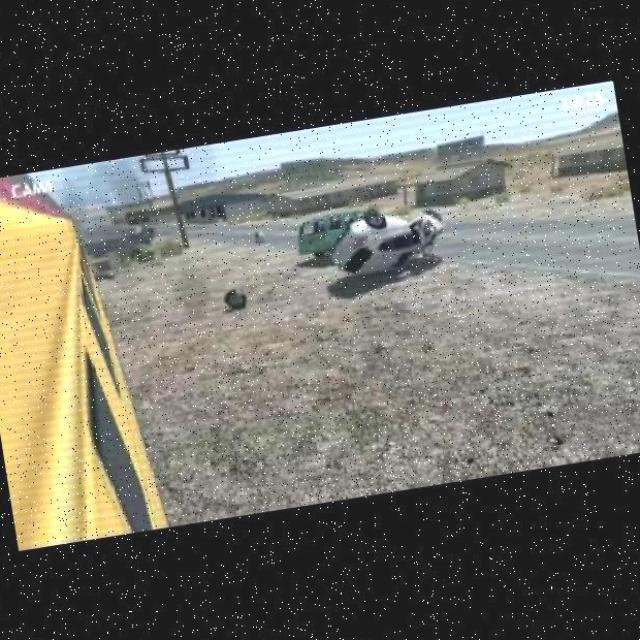accident: (290, 196, 454, 293)
